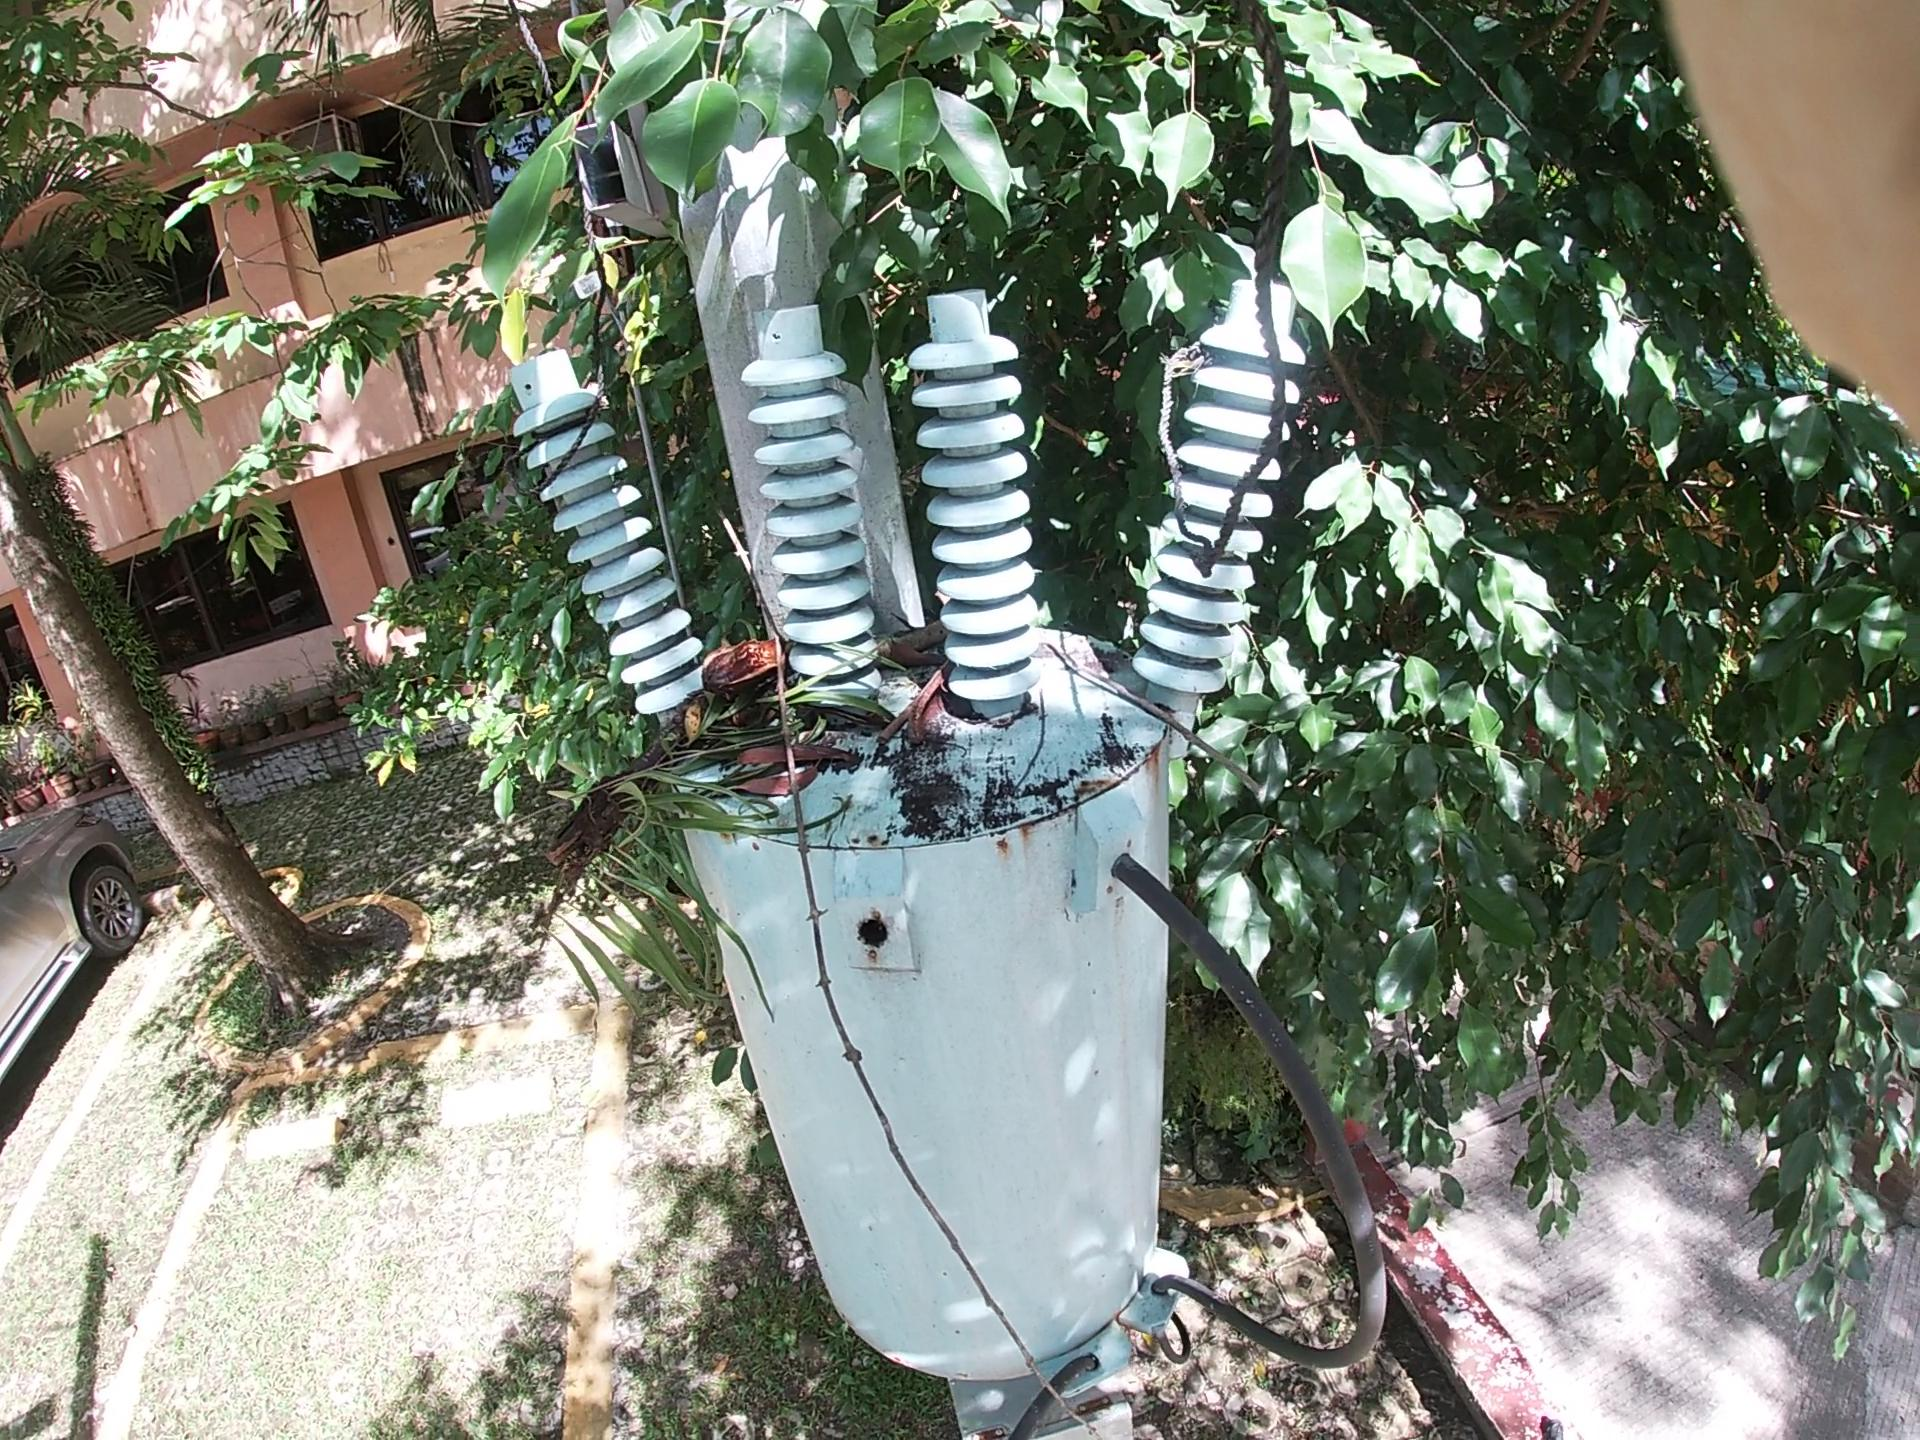branch with leaves: (593, 620, 853, 926)
leaf: (717, 734, 822, 815)
mahogany fruit: (854, 617, 1023, 782), (658, 631, 865, 717)
tree branch: (754, 646, 937, 1275), (1028, 585, 1261, 891), (853, 573, 1011, 867)
